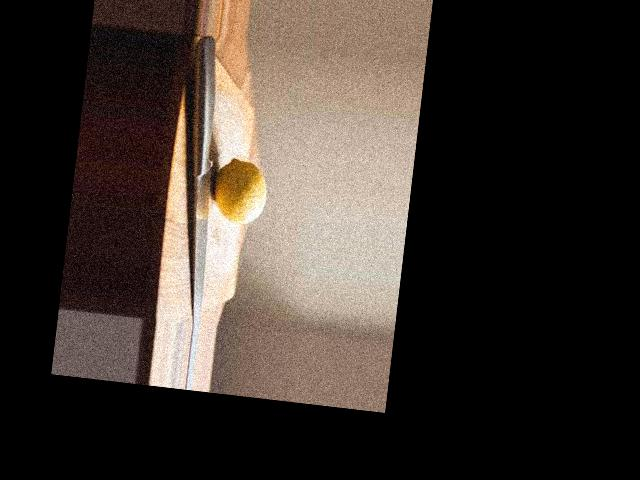lemon: (209, 152, 273, 235)
